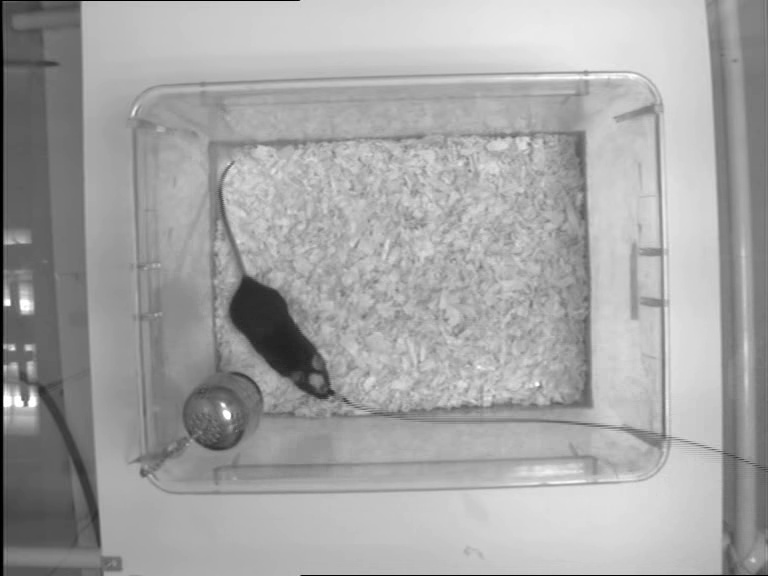mice: (217, 160, 334, 406)
